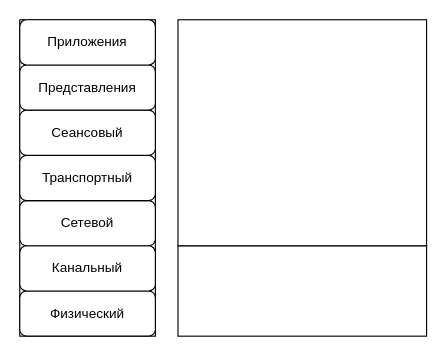
This 446x356 diagram has some shape labels left out. The shapes that lost their labels are listed below. From the top down, each one's centre as x and y in pixels, then its label:
At (x=302, y=132): "Протоколы (RFC)".
At (x=302, y=290): "Технологии канального уровня (IEEE 802.*)".
